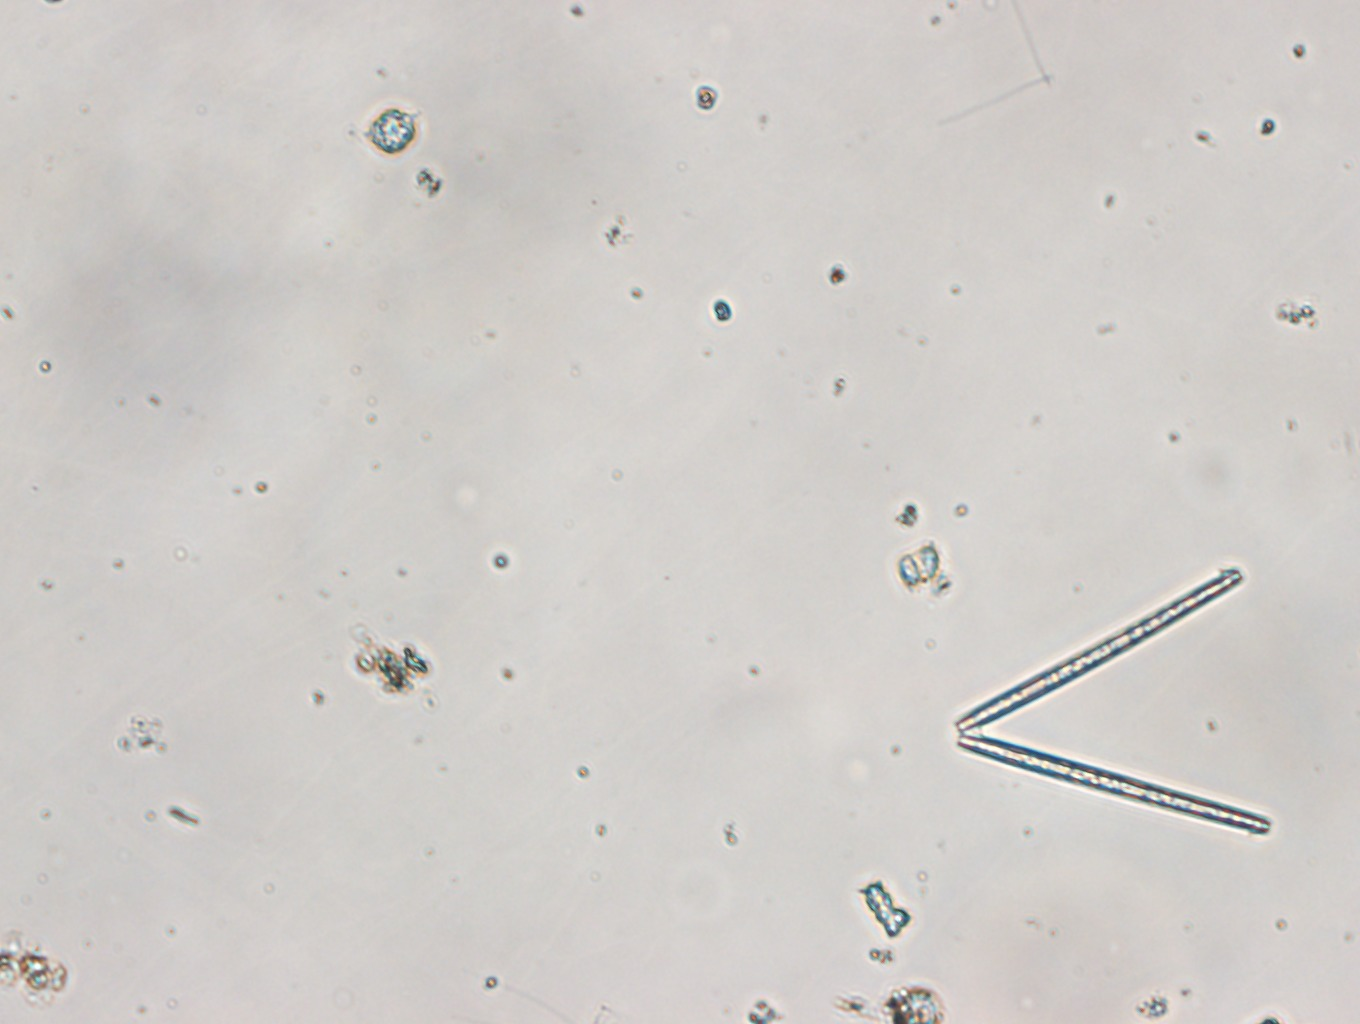thalassionema frauenfeldii: (956, 565, 1274, 839)
